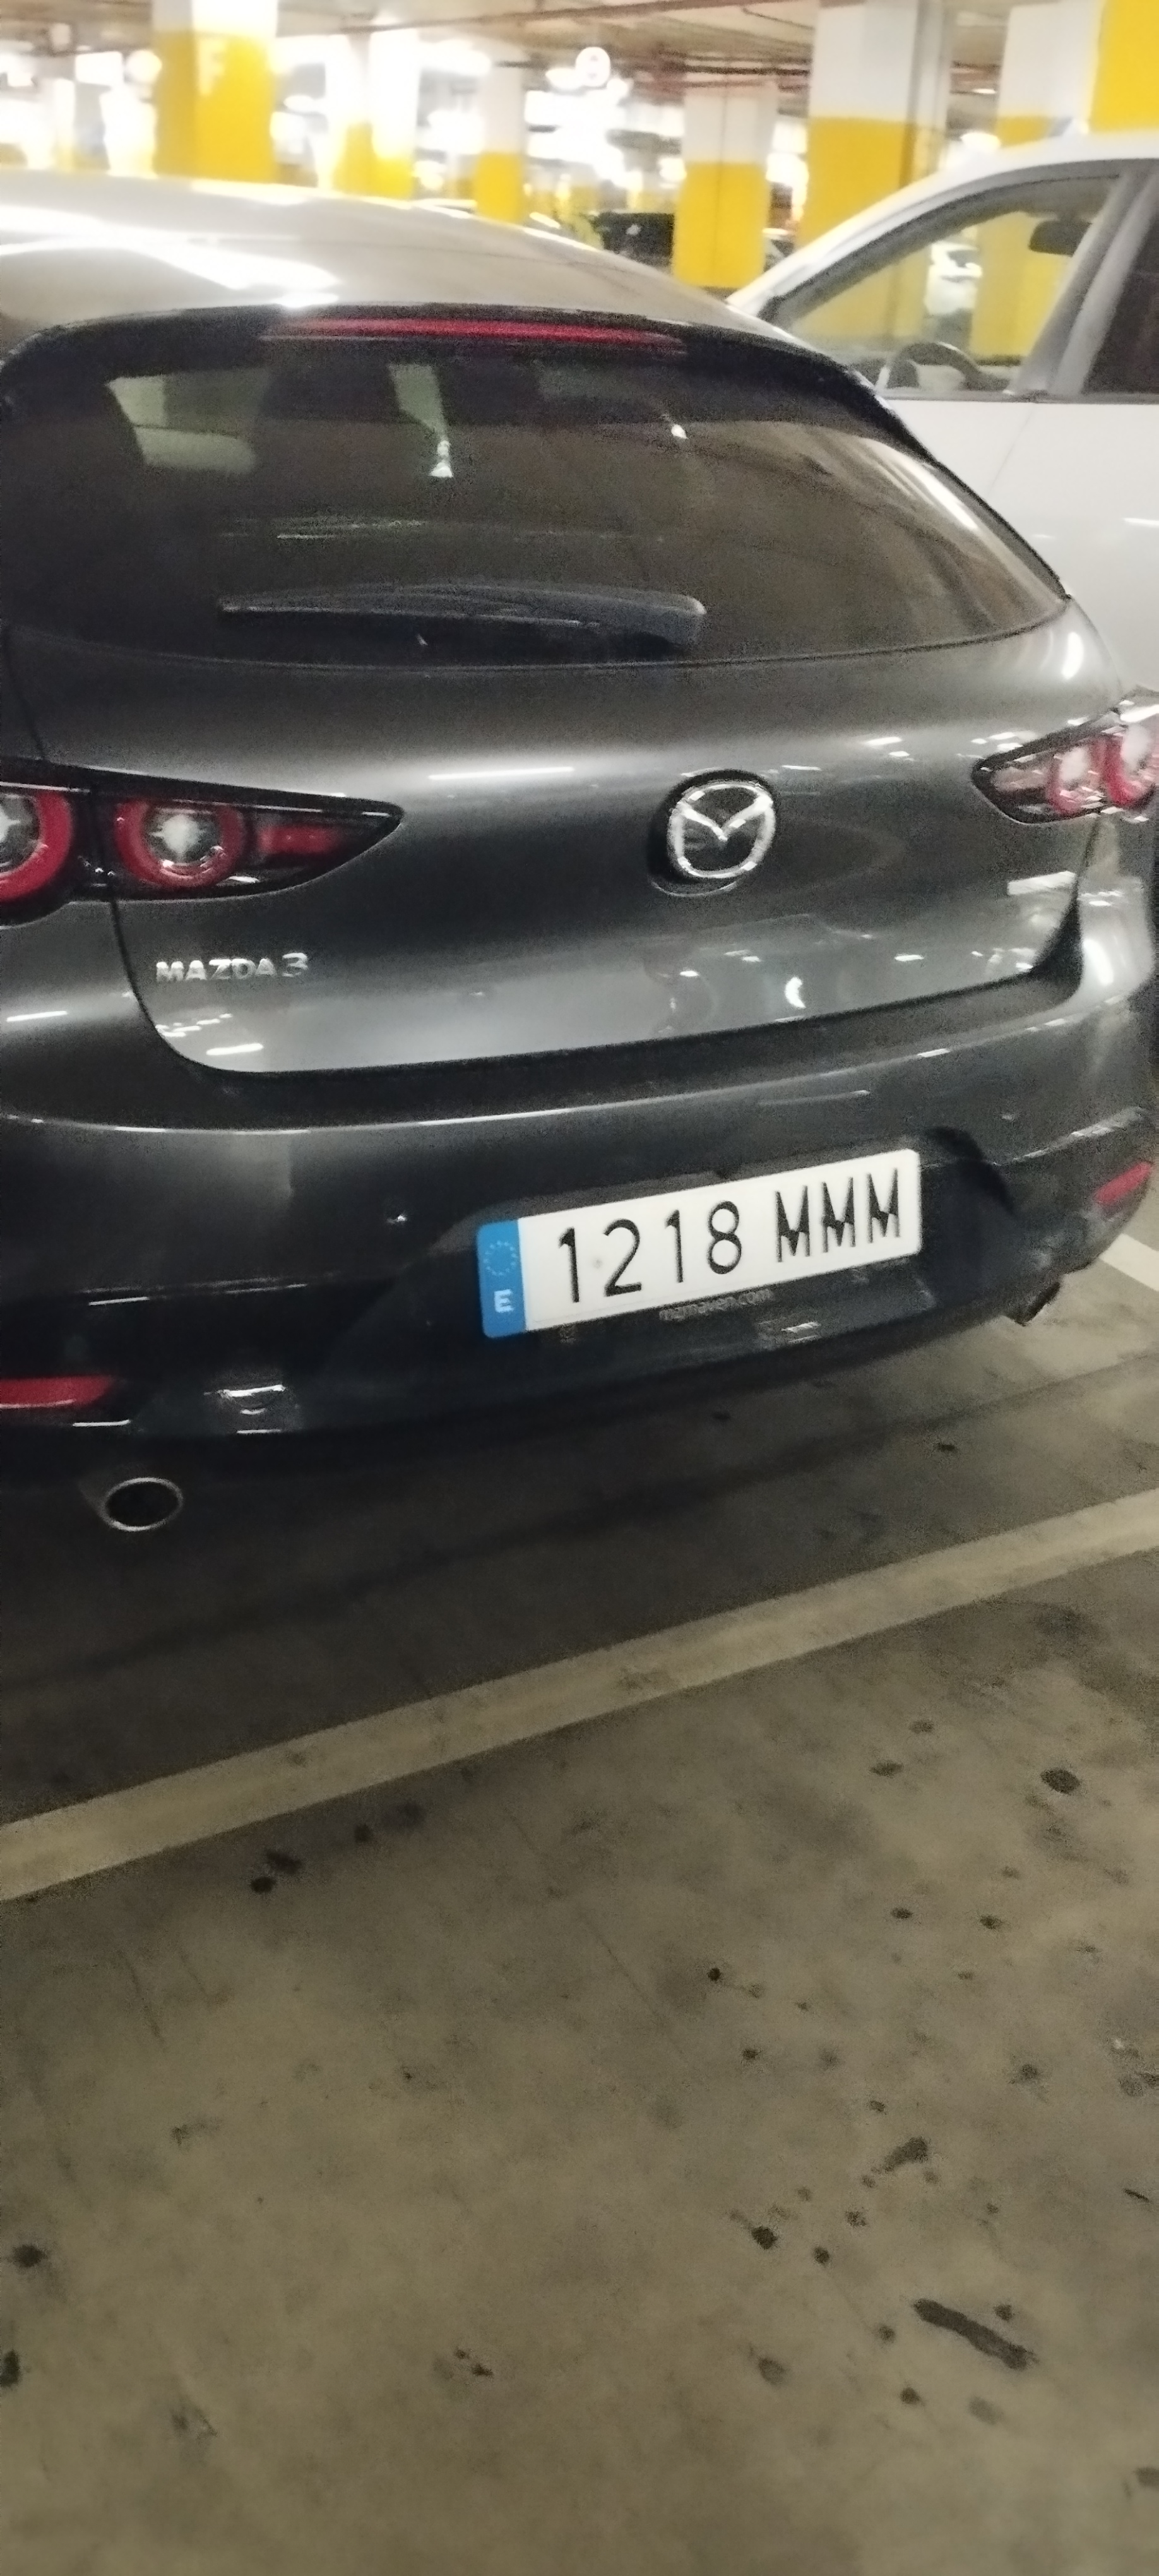Car: (0, 176, 1159, 1542)
Plate: (468, 1235, 928, 1343)
